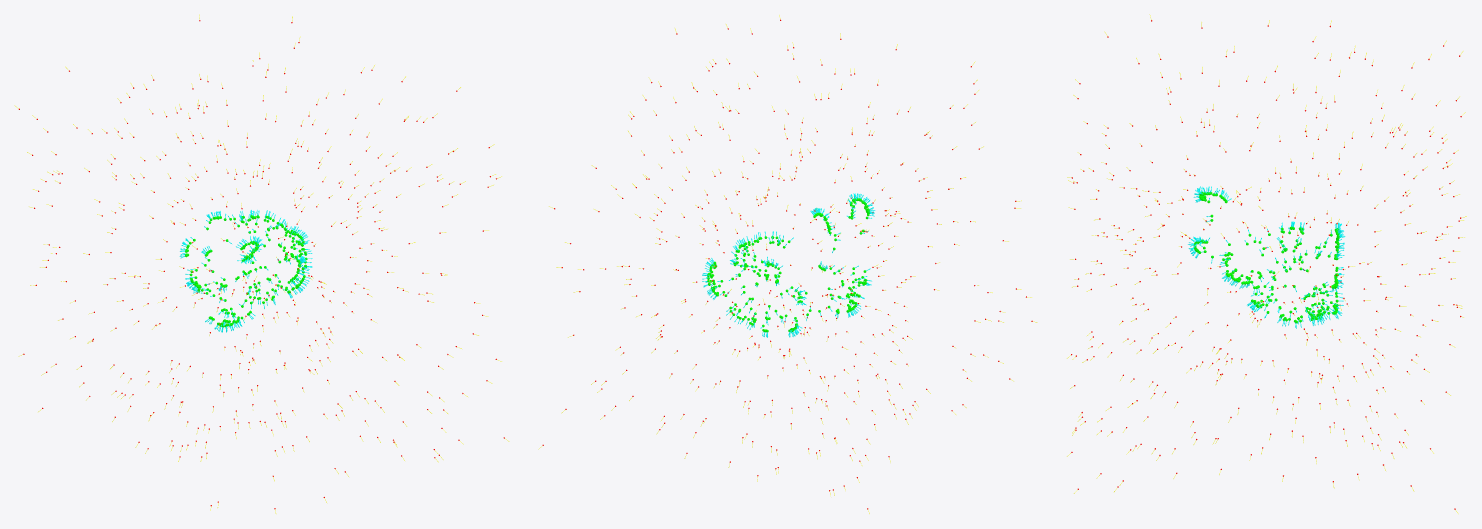
Rendered from surface_points bunny.gltf.
3 renders of one model, left to right at view 1: azimuth 30°, elevation 25°; view 2: azimuth 150°, elevation 25°; view 3: azimuth 270°, elevation 25°, orthographic. The views are drawn at different scales.
Bounding box in the file's own units: 2.75 × 2.76 × 2.76.
